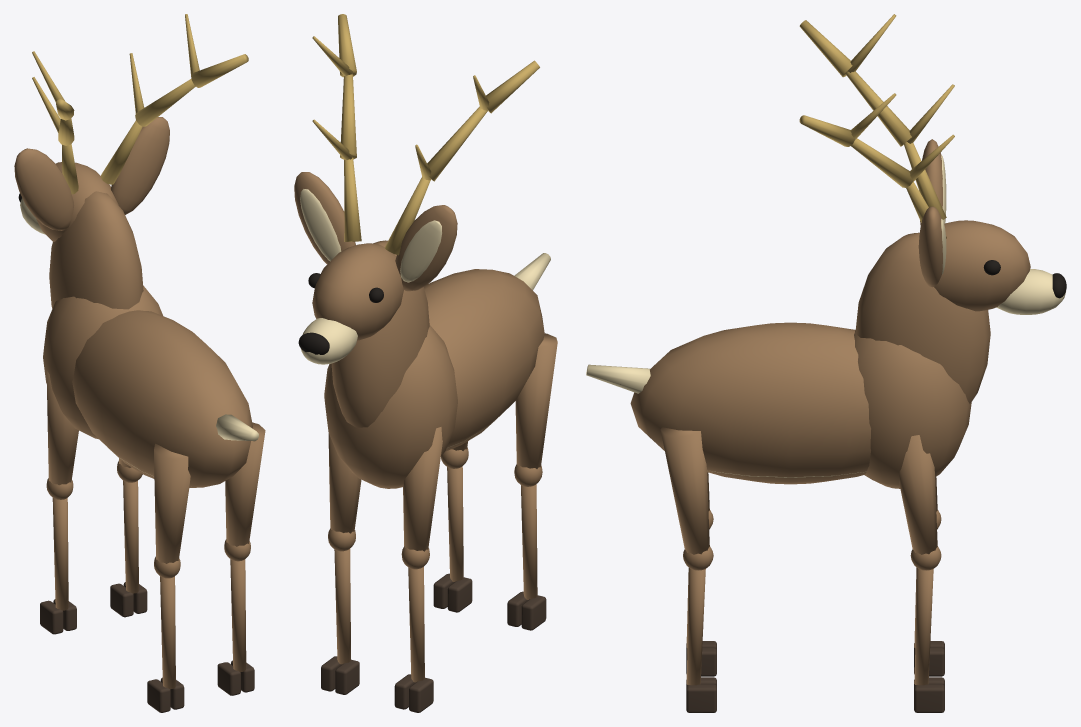
Rendered from pacific-deer.glb.
3 views of the same model, side by side, from view 1: azimuth 30°, elevation 25°; view 2: azimuth 150°, elevation 25°; view 3: azimuth 270°, elevation 25° (orthographic). The views are drawn at different scales.
Visible parts, largest first — view 1: LifeRoot_Deer warm coat, Head_Deer warm coat, LegBackL_Deer warm coat, Antlers_Animal brass tag.001, LegBackR_Deer warm coat, LegFrontL_Deer warm coat, LegFrontR_Deer warm coat, LegBackR_Animal pads and hooves.001, LegBackL_Animal pads and hooves.001, LegFrontR_Animal pads and hooves.001, LegFrontL_Animal pads and hooves.001, Tail_Animal cream markings.001; view 2: LifeRoot_Deer warm coat, Head_Deer warm coat, Antlers_Animal brass tag.001, LegBackL_Deer warm coat, LegFrontL_Deer warm coat, Head_Animal cream markings.001, LegFrontR_Deer warm coat, LegBackR_Deer warm coat, LegFrontL_Animal pads and hooves.001, LegBackL_Animal pads and hooves.001, LegBackR_Animal pads and hooves.001, LegFrontR_Animal pads and hooves.001 (+2 smaller); view 3: LifeRoot_Deer warm coat, Head_Deer warm coat, Antlers_Animal brass tag.001, LegBackR_Deer warm coat, LegFrontR_Deer warm coat, Head_Animal cream markings.001, Tail_Animal cream markings.001, LegFrontR_Animal pads and hooves.001, LegBackR_Animal pads and hooves.001.
Part boxes in pixels (x1=…): LifeRoot_Deer warm coat: x1=43, y1=191, x2=252, y2=487; Head_Deer warm coat: x1=14, y1=117, x2=169, y2=241; LegBackL_Deer warm coat: x1=154, y1=443, x2=190, y2=689; Antlers_Animal brass tag.001: x1=32, y1=14, x2=248, y2=194; LegBackR_Deer warm coat: x1=224, y1=422, x2=265, y2=671; LegFrontL_Deer warm coat: x1=46, y1=370, x2=78, y2=610; LegFrontR_Deer warm coat: x1=117, y1=458, x2=142, y2=593; LegBackR_Animal pads and hooves.001: x1=217, y1=660, x2=254, y2=695; LegBackL_Animal pads and hooves.001: x1=147, y1=677, x2=184, y2=712; LegFrontR_Animal pads and hooves.001: x1=110, y1=582, x2=147, y2=617; LegFrontL_Animal pads and hooves.001: x1=40, y1=599, x2=76, y2=634; Tail_Animal cream markings.001: x1=216, y1=414, x2=258, y2=441; LifeRoot_Deer warm coat: x1=324, y1=240, x2=544, y2=488; Head_Deer warm coat: x1=294, y1=172, x2=457, y2=340; Antlers_Animal brass tag.001: x1=312, y1=14, x2=539, y2=255; LegBackL_Deer warm coat: x1=514, y1=333, x2=557, y2=599; LegFrontL_Deer warm coat: x1=401, y1=427, x2=442, y2=682; Head_Animal cream markings.001: x1=300, y1=189, x2=441, y2=364; LegFrontR_Deer warm coat: x1=328, y1=433, x2=361, y2=664; LegBackR_Deer warm coat: x1=441, y1=441, x2=468, y2=581; LegFrontL_Animal pads and hooves.001: x1=394, y1=674, x2=433, y2=712; LegBackL_Animal pads and hooves.001: x1=507, y1=591, x2=546, y2=630; LegBackR_Animal pads and hooves.001: x1=433, y1=573, x2=472, y2=612; LegFrontR_Animal pads and hooves.001: x1=321, y1=656, x2=359, y2=694; LifeRoot_Deer warm coat: x1=630, y1=232, x2=990, y2=488; Head_Deer warm coat: x1=918, y1=139, x2=1030, y2=311; Antlers_Animal brass tag.001: x1=799, y1=14, x2=954, y2=238; LegBackR_Deer warm coat: x1=660, y1=427, x2=713, y2=685; LegFrontR_Deer warm coat: x1=899, y1=435, x2=941, y2=685; Head_Animal cream markings.001: x1=941, y1=155, x2=1065, y2=314; Tail_Animal cream markings.001: x1=586, y1=364, x2=650, y2=393; LegFrontR_Animal pads and hooves.001: x1=914, y1=677, x2=944, y2=712; LegBackR_Animal pads and hooves.001: x1=686, y1=677, x2=716, y2=712.
Bounding box in the file's own units: 0.766 × 2.28 × 1.56.
